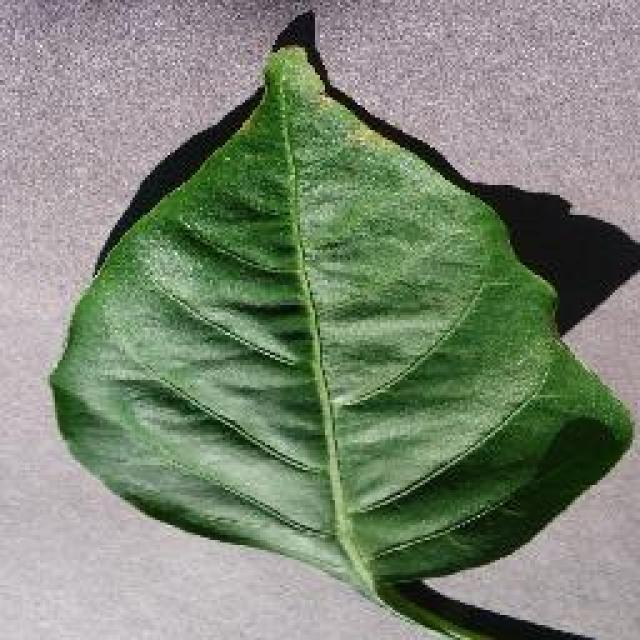Leaf: (53, 27, 627, 602)
